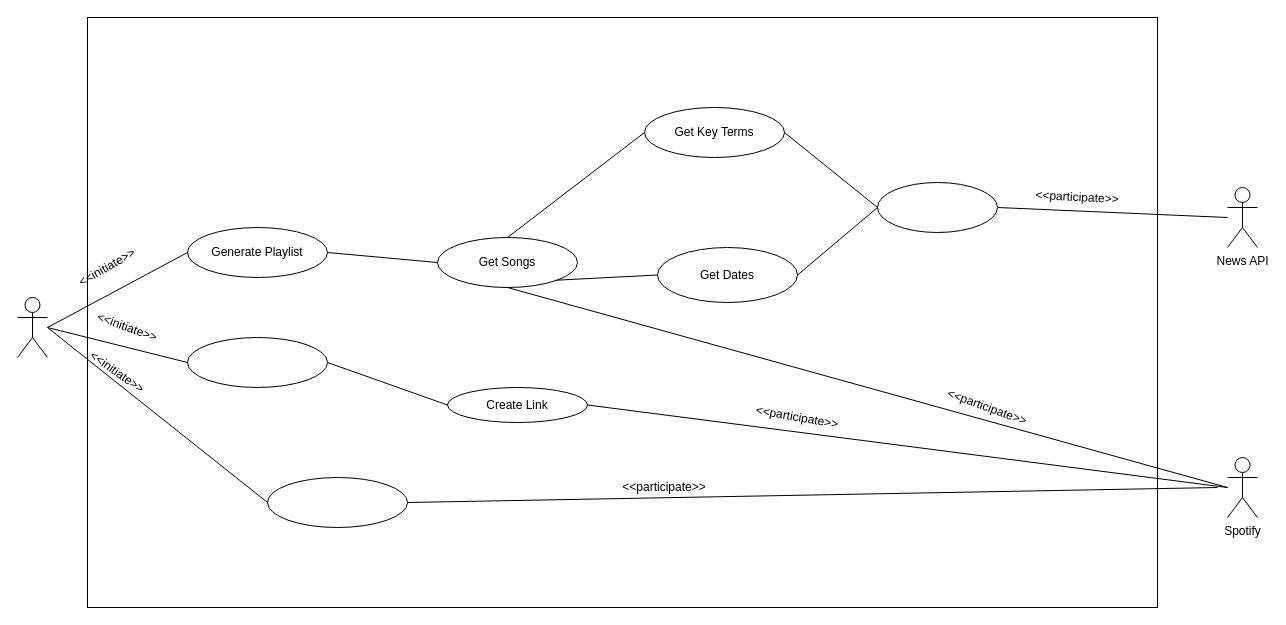
The diagram is 1286 pixels wide and 625 high, and some of its shapes have lost their labels. The centre of each missing label's shape, as x and y in pixels:
Get News: pixel 937 207
Listen To Playlist: pixel 337 502
Share Playlist: pixel 257 362
User: pixel 32 327
